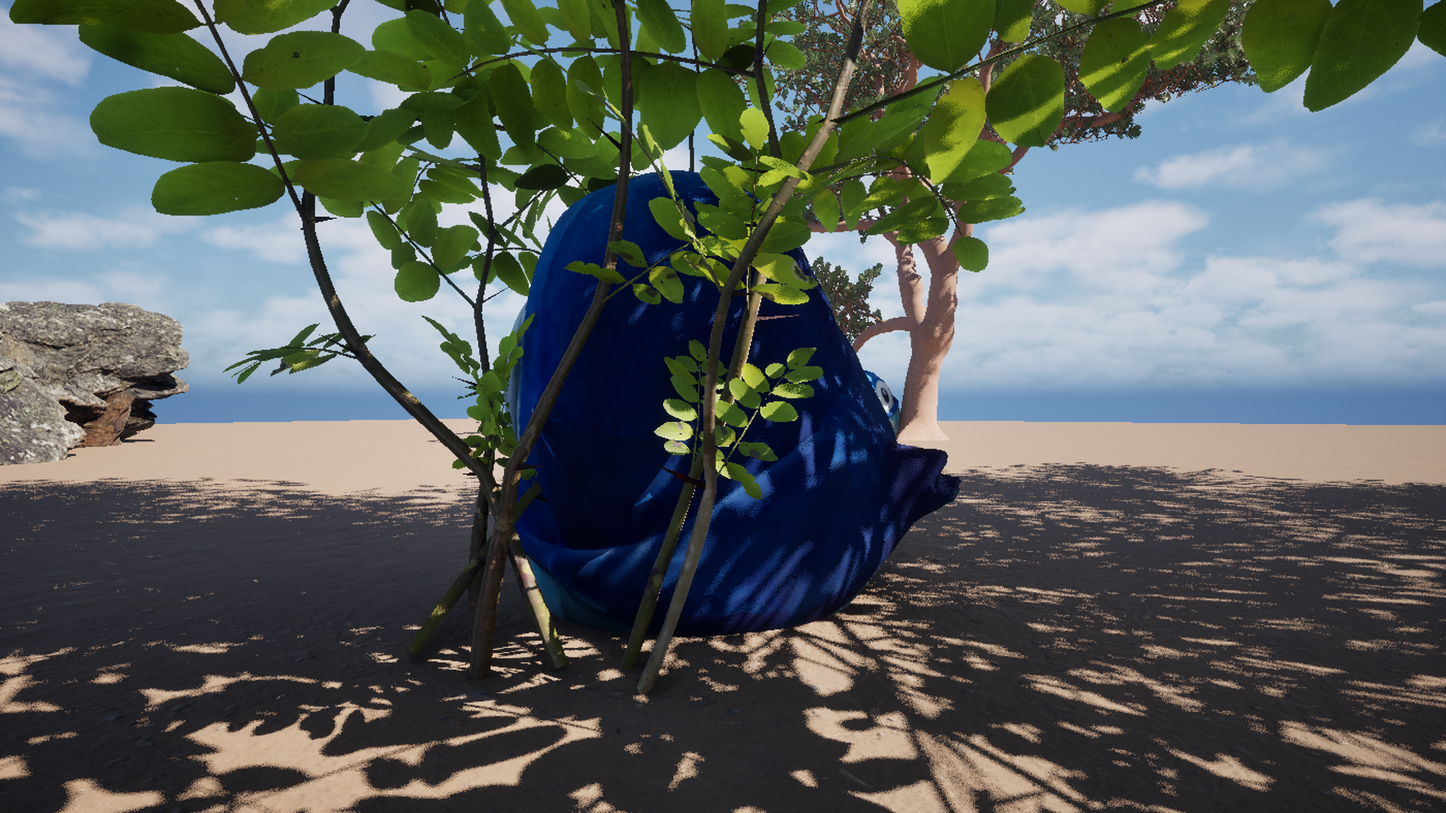Piplup: (265, 0, 1003, 813)
